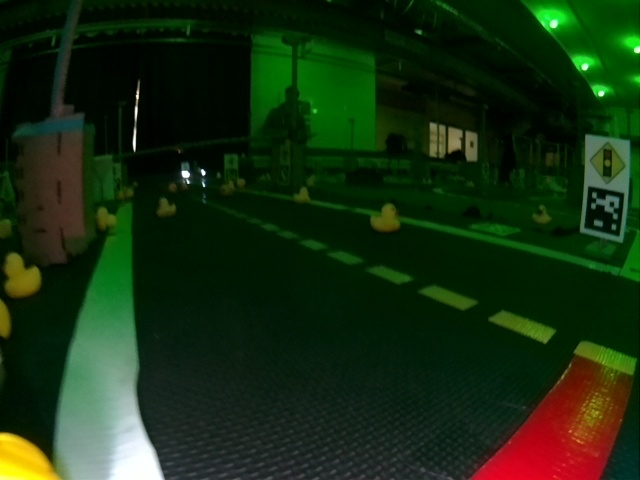Duckie: (5, 251, 41, 297), (370, 204, 400, 228), (99, 207, 115, 230), (156, 198, 175, 216), (533, 206, 551, 223), (294, 187, 310, 201), (221, 184, 231, 194), (168, 184, 178, 192), (236, 179, 245, 187)
QR code: (582, 188, 625, 239), (472, 223, 520, 237)
Signal sign: (585, 139, 628, 185)
